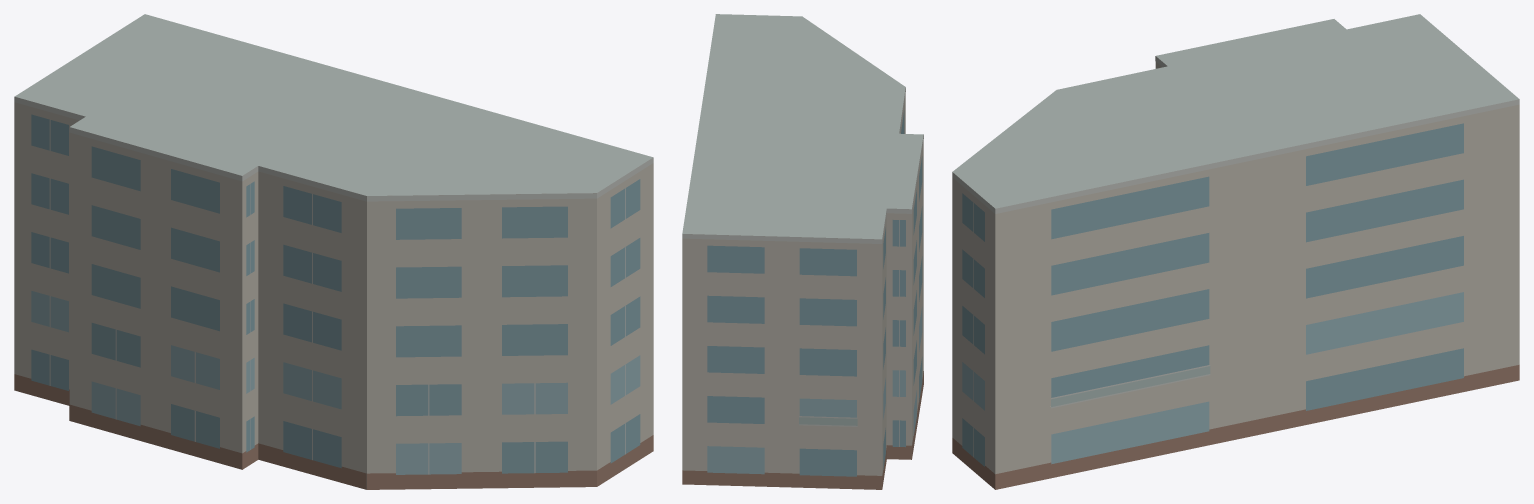
The model's file is survey-upis-32914908.glb.
3 views of the same model, side by side, from view 1: azimuth 30°, elevation 25°; view 2: azimuth 150°, elevation 25°; view 3: azimuth 270°, elevation 25° (orthographic). The views are drawn at different scales.
Parts seen in each view (by area): view 1: survey-upis-32914908.tmp; view 2: survey-upis-32914908.tmp; view 3: survey-upis-32914908.tmp.
Boxes of the visible parts, x1=… form: survey-upis-32914908.tmp: x1=14, y1=14, x2=653, y2=489; survey-upis-32914908.tmp: x1=682, y1=14, x2=923, y2=489; survey-upis-32914908.tmp: x1=952, y1=14, x2=1519, y2=489.
Bounding box in the file's own units: 19.1 × 12.85 × 23.51.
